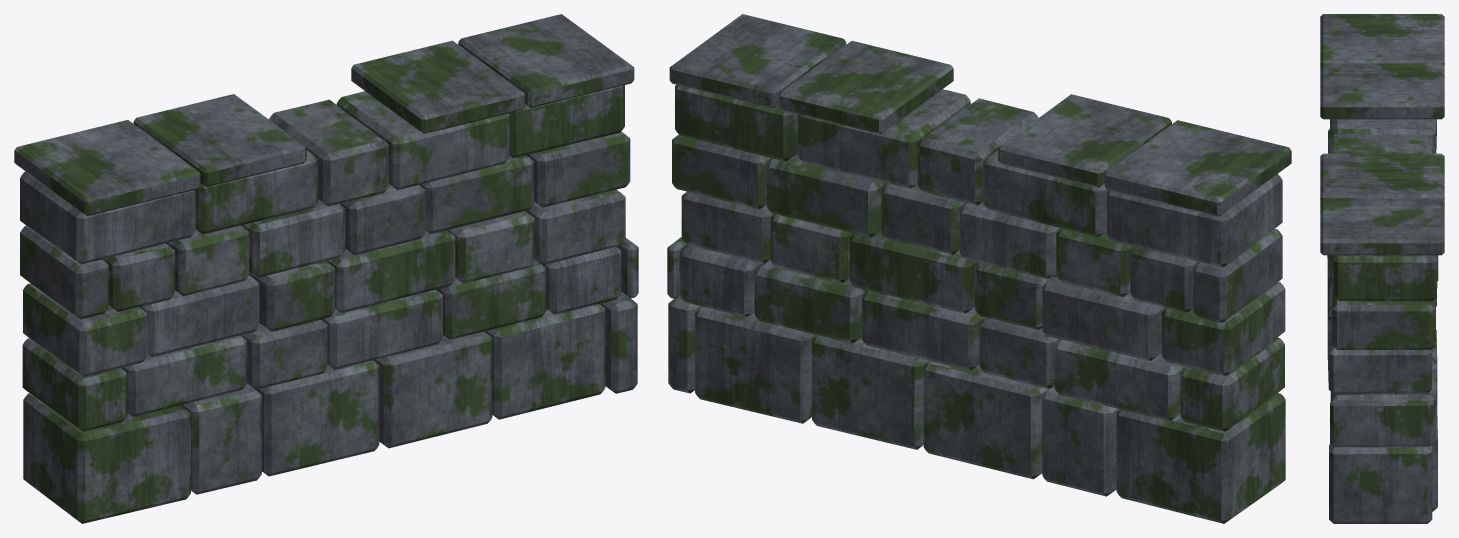
Rendered from Bell_Terrace_Wall.glb.
3 views of the same model, side by side, from view 1: azimuth 30°, elevation 25°; view 2: azimuth 150°, elevation 25°; view 3: azimuth 270°, elevation 25° (orthographic). The views are drawn at different scales.
Visible parts, largest first — view 1: Bell_Terrace_Wall__Stone; view 2: Bell_Terrace_Wall__Stone; view 3: Bell_Terrace_Wall__Stone.
Boxes of the visible parts, x1,y1,x2,y2 form: Bell_Terrace_Wall__Stone: [14, 14, 638, 523]; Bell_Terrace_Wall__Stone: [667, 14, 1291, 523]; Bell_Terrace_Wall__Stone: [1320, 14, 1444, 523].
Bounding box in the file's own units: 15.96 × 9 × 3.6.
Materials: 1 (1 with a texture image).
